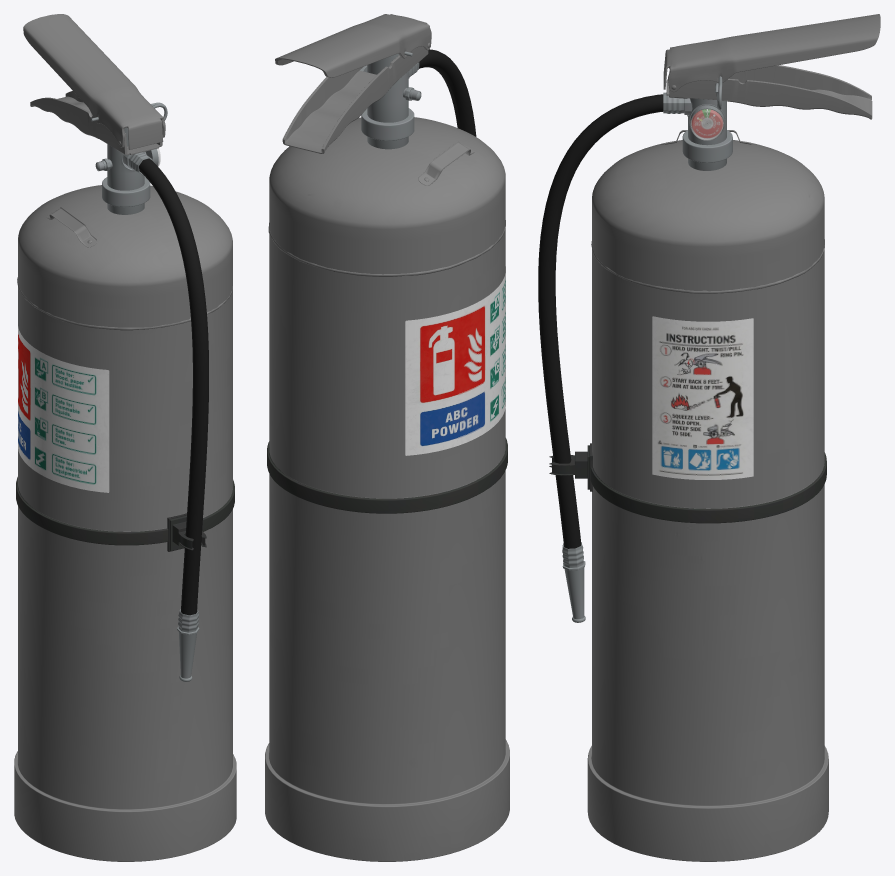
File: tools_fireExtinguisher_powder_a01.glb
3 renders of one model, left to right at view 1: azimuth 30°, elevation 25°; view 2: azimuth 150°, elevation 25°; view 3: azimuth 270°, elevation 25°, orthographic. The views are drawn at different scales.
Visible parts, largest first — view 1: body_01_mesh_00.001, handle_01_mesh_00; view 2: body_01_mesh_00.001, handle_01_mesh_00; view 3: body_01_mesh_00.001, handle_01_mesh_00, glass_01_mesh_00.
Part boxes in pixels (x1=…): body_01_mesh_00.001: x1=14, y1=91, x2=236, y2=861; handle_01_mesh_00: x1=23, y1=14, x2=165, y2=149; body_01_mesh_00.001: x1=265, y1=46, x2=509, y2=861; handle_01_mesh_00: x1=275, y1=14, x2=431, y2=77; body_01_mesh_00.001: x1=538, y1=65, x2=872, y2=861; handle_01_mesh_00: x1=663, y1=14, x2=880, y2=92; glass_01_mesh_00: x1=691, y1=109, x2=723, y2=140.
Bounding box in the file's own units: 0.2044 × 0.7579 × 0.2976.
Materials: 6 (4 with a texture image).
